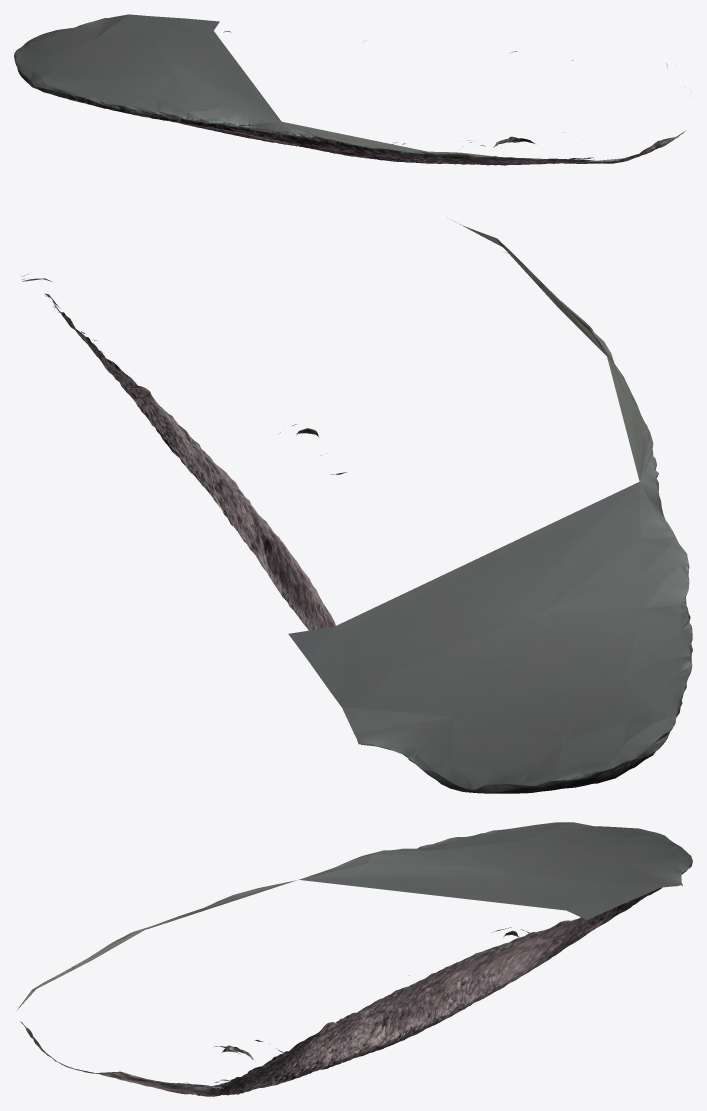
Rendered from Prise_seule_noire.glb.
The picture shows the model from 3 angles, top to bottom: view 1: azimuth 30°, elevation 25°; view 2: azimuth 150°, elevation 25°; view 3: azimuth 270°, elevation 25°; orthographic projection. The views are drawn at different scales.
Bounding box in the file's own units: 0.7181 × 0.111 × 0.7281.
Materials: 1 (1 with a texture image).
